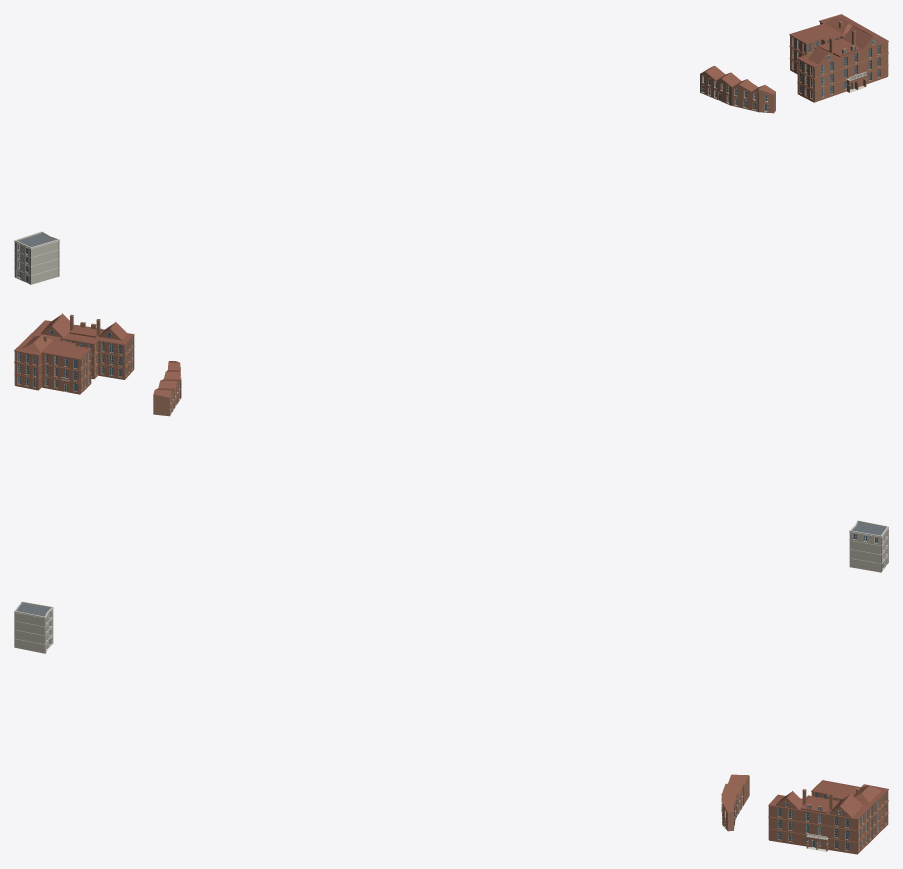
Rendered from replacement.glb.
3 views of the same model, one above another, from view 1: azimuth 30°, elevation 25°; view 2: azimuth 150°, elevation 25°; view 3: azimuth 330°, elevation 25° (orthographic).
Parts seen in each view (by area): view 1: Jamaican High Commission | pierced brick walls, Jay Mews 117010283 | pierced masonry, 84 Kensington Gore | pierced masonry, 29 Exhibition Road | exact concave roof deck, Jamaican High Commission | recessed sashes, 84 Kensington Gore | four asymmetric saltbox roof slopes, Jamaican High Commission | paired steep red tiled roofs; view 2: 29 Exhibition Road | pierced brick walls, Jay Mews 117010283 | pierced masonry, Jamaican High Commission | pierced brick walls, 29 Exhibition Road | recessed sashes, 29 Exhibition Road | exact concave roof deck, 84 Kensington Gore | four asymmetric saltbox roof slopes, 84 Kensington Gore | pierced masonry, Jamaican High Commission | paired steep red tiled roofs; view 3: Jamaican High Commission | pierced brick walls, Jay Mews 117010283 | pierced masonry, Jamaican High Commission | recessed sashes, 84 Kensington Gore | four asymmetric saltbox roof slopes, Jamaican High Commission | paired steep red tiled roofs, 29 Exhibition Road | pierced brick walls, 84 Kensington Gore | pierced masonry, 29 Exhibition Road | exact concave roof deck.
Boxes of the visible parts, <box> form: Jamaican High Commission | pierced brick walls: <box>798,37,887,102</box>; Jay Mews 117010283 | pierced masonry: <box>14,233,59,284</box>; 84 Kensington Gore | pierced masonry: <box>700,74,775,113</box>; 29 Exhibition Road | exact concave roof deck: <box>792,15,862,42</box>; Jamaican High Commission | recessed sashes: <box>800,45,879,98</box>; 84 Kensington Gore | four asymmetric saltbox roof slopes: <box>701,66,775,94</box>; Jamaican High Commission | paired steep red tiled roofs: <box>808,26,872,64</box>; 29 Exhibition Road | pierced brick walls: <box>15,345,90,394</box>; Jay Mews 117010283 | pierced masonry: <box>849,522,888,572</box>; Jamaican High Commission | pierced brick walls: <box>60,337,133,379</box>; 29 Exhibition Road | recessed sashes: <box>17,352,88,390</box>; 29 Exhibition Road | exact concave roof deck: <box>17,336,88,358</box>; 84 Kensington Gore | four asymmetric saltbox roof slopes: <box>153,361,180,397</box>; 84 Kensington Gore | pierced masonry: <box>153,380,180,416</box>; Jamaican High Commission | paired steep red tiled roofs: <box>40,314,127,339</box>; Jamaican High Commission | pierced brick walls: <box>769,806,871,854</box>; Jay Mews 117010283 | pierced masonry: <box>14,603,53,653</box>; Jamaican High Commission | recessed sashes: <box>778,808,869,850</box>; 84 Kensington Gore | four asymmetric saltbox roof slopes: <box>722,774,748,812</box>; Jamaican High Commission | paired steep red tiled roofs: <box>775,791,862,817</box>; 29 Exhibition Road | pierced brick walls: <box>813,791,887,838</box>; 84 Kensington Gore | pierced masonry: <box>722,778,749,831</box>; 29 Exhibition Road | exact concave roof deck: <box>814,781,885,803</box>.
Size of the model in its own units: 330 by 18.96 by 31.7.
